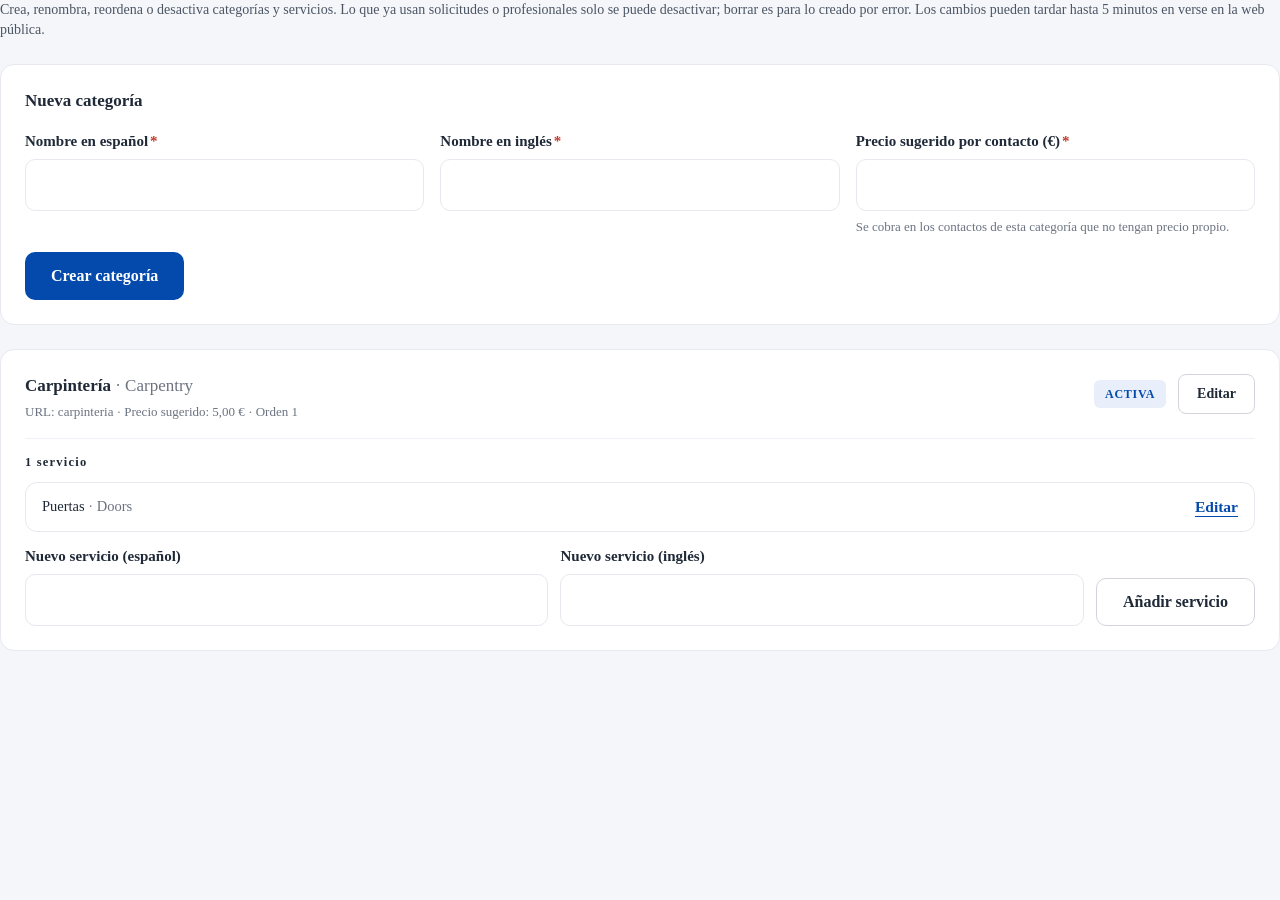
Scenario: AdminCatalog › deactivates a category from its edit form
Expected: the heading "Carpintería · Carpentry" is shown, x1=25 y1=376 x2=193 y2=395
Click the button with aria-label "Editar «Carpintería»": (1217, 394) x1=1178 y1=374 x2=1255 y2=414
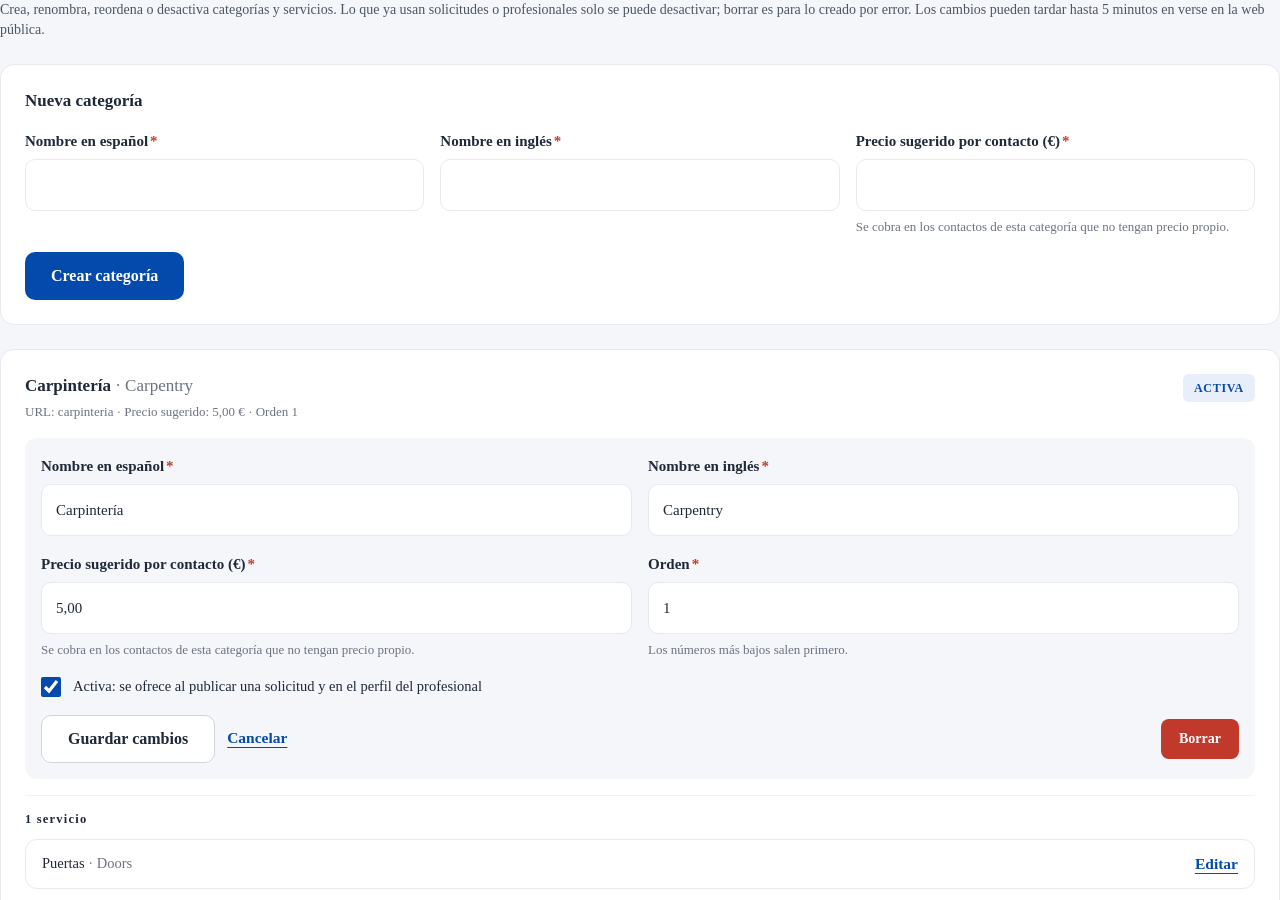
Click the checkbox labelled "Activa: se ofrece al publicar una solicitud y en el perfil del profesional": (51, 687) x1=41 y1=677 x2=61 y2=697
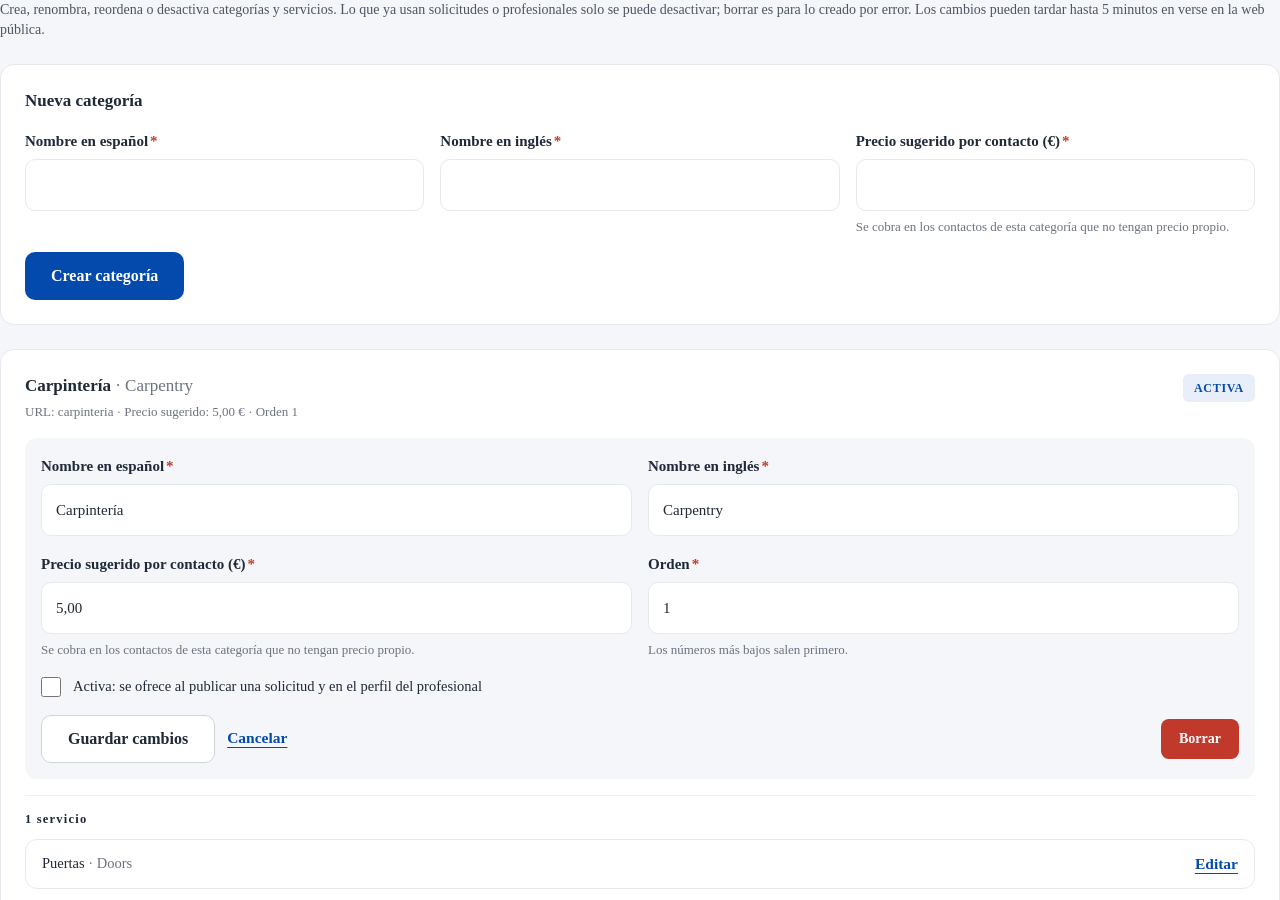
Click the button "Guardar cambios": (128, 739) x1=41 y1=715 x2=215 y2=763
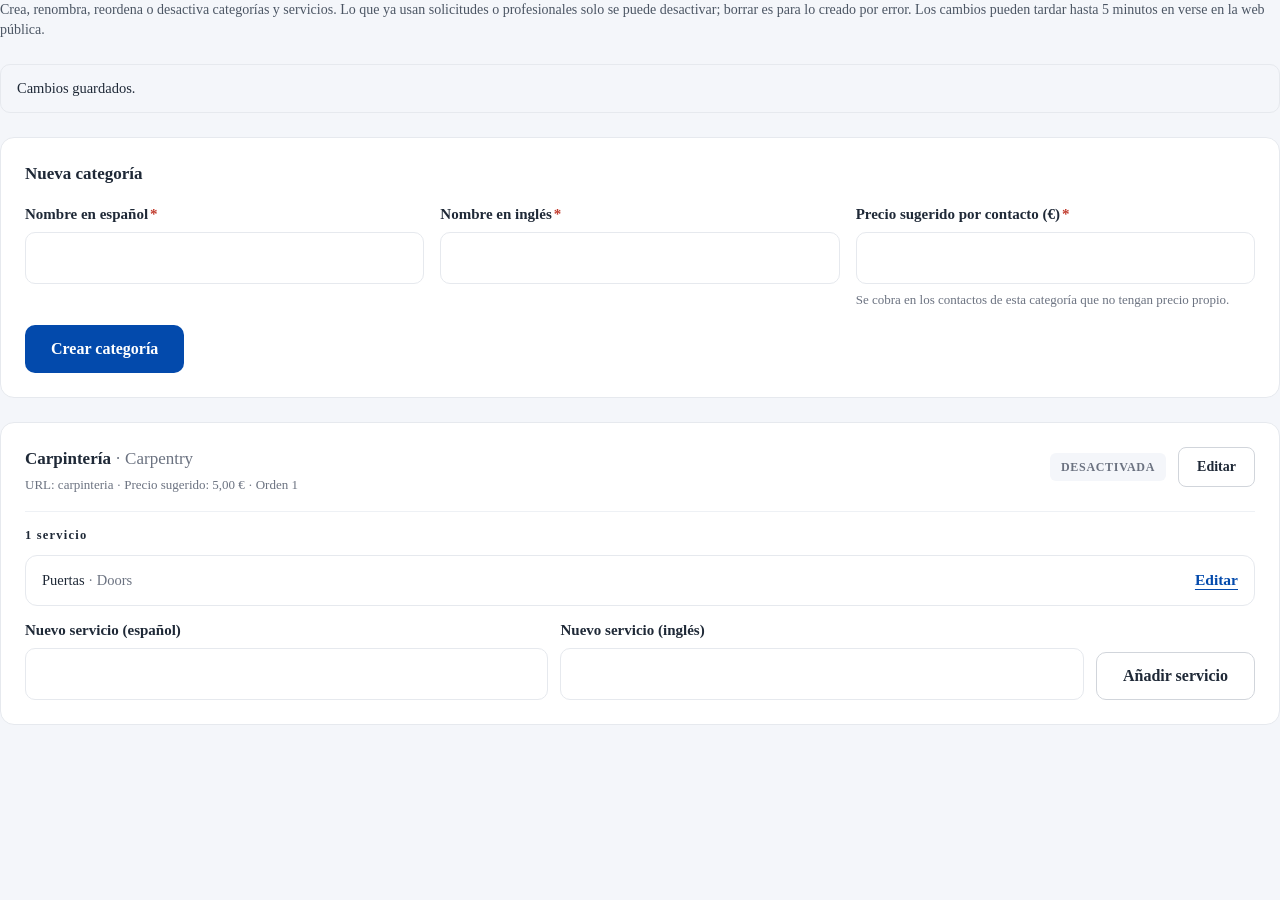
Result: the text "Cambios guardados." is shown at x1=17 y1=80 x2=135 y2=96
Result: the text "Desactivada" is shown at x1=1050 y1=454 x2=1166 y2=482
